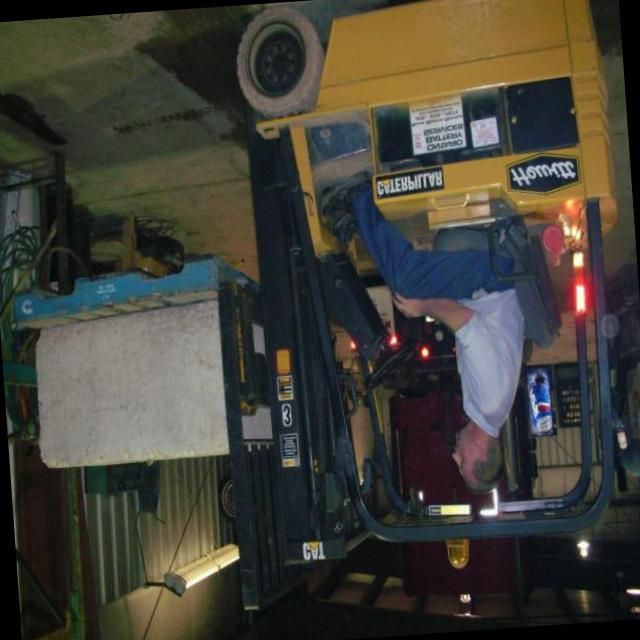driver: (318, 165, 540, 510)
forklift: (221, 0, 640, 579)
